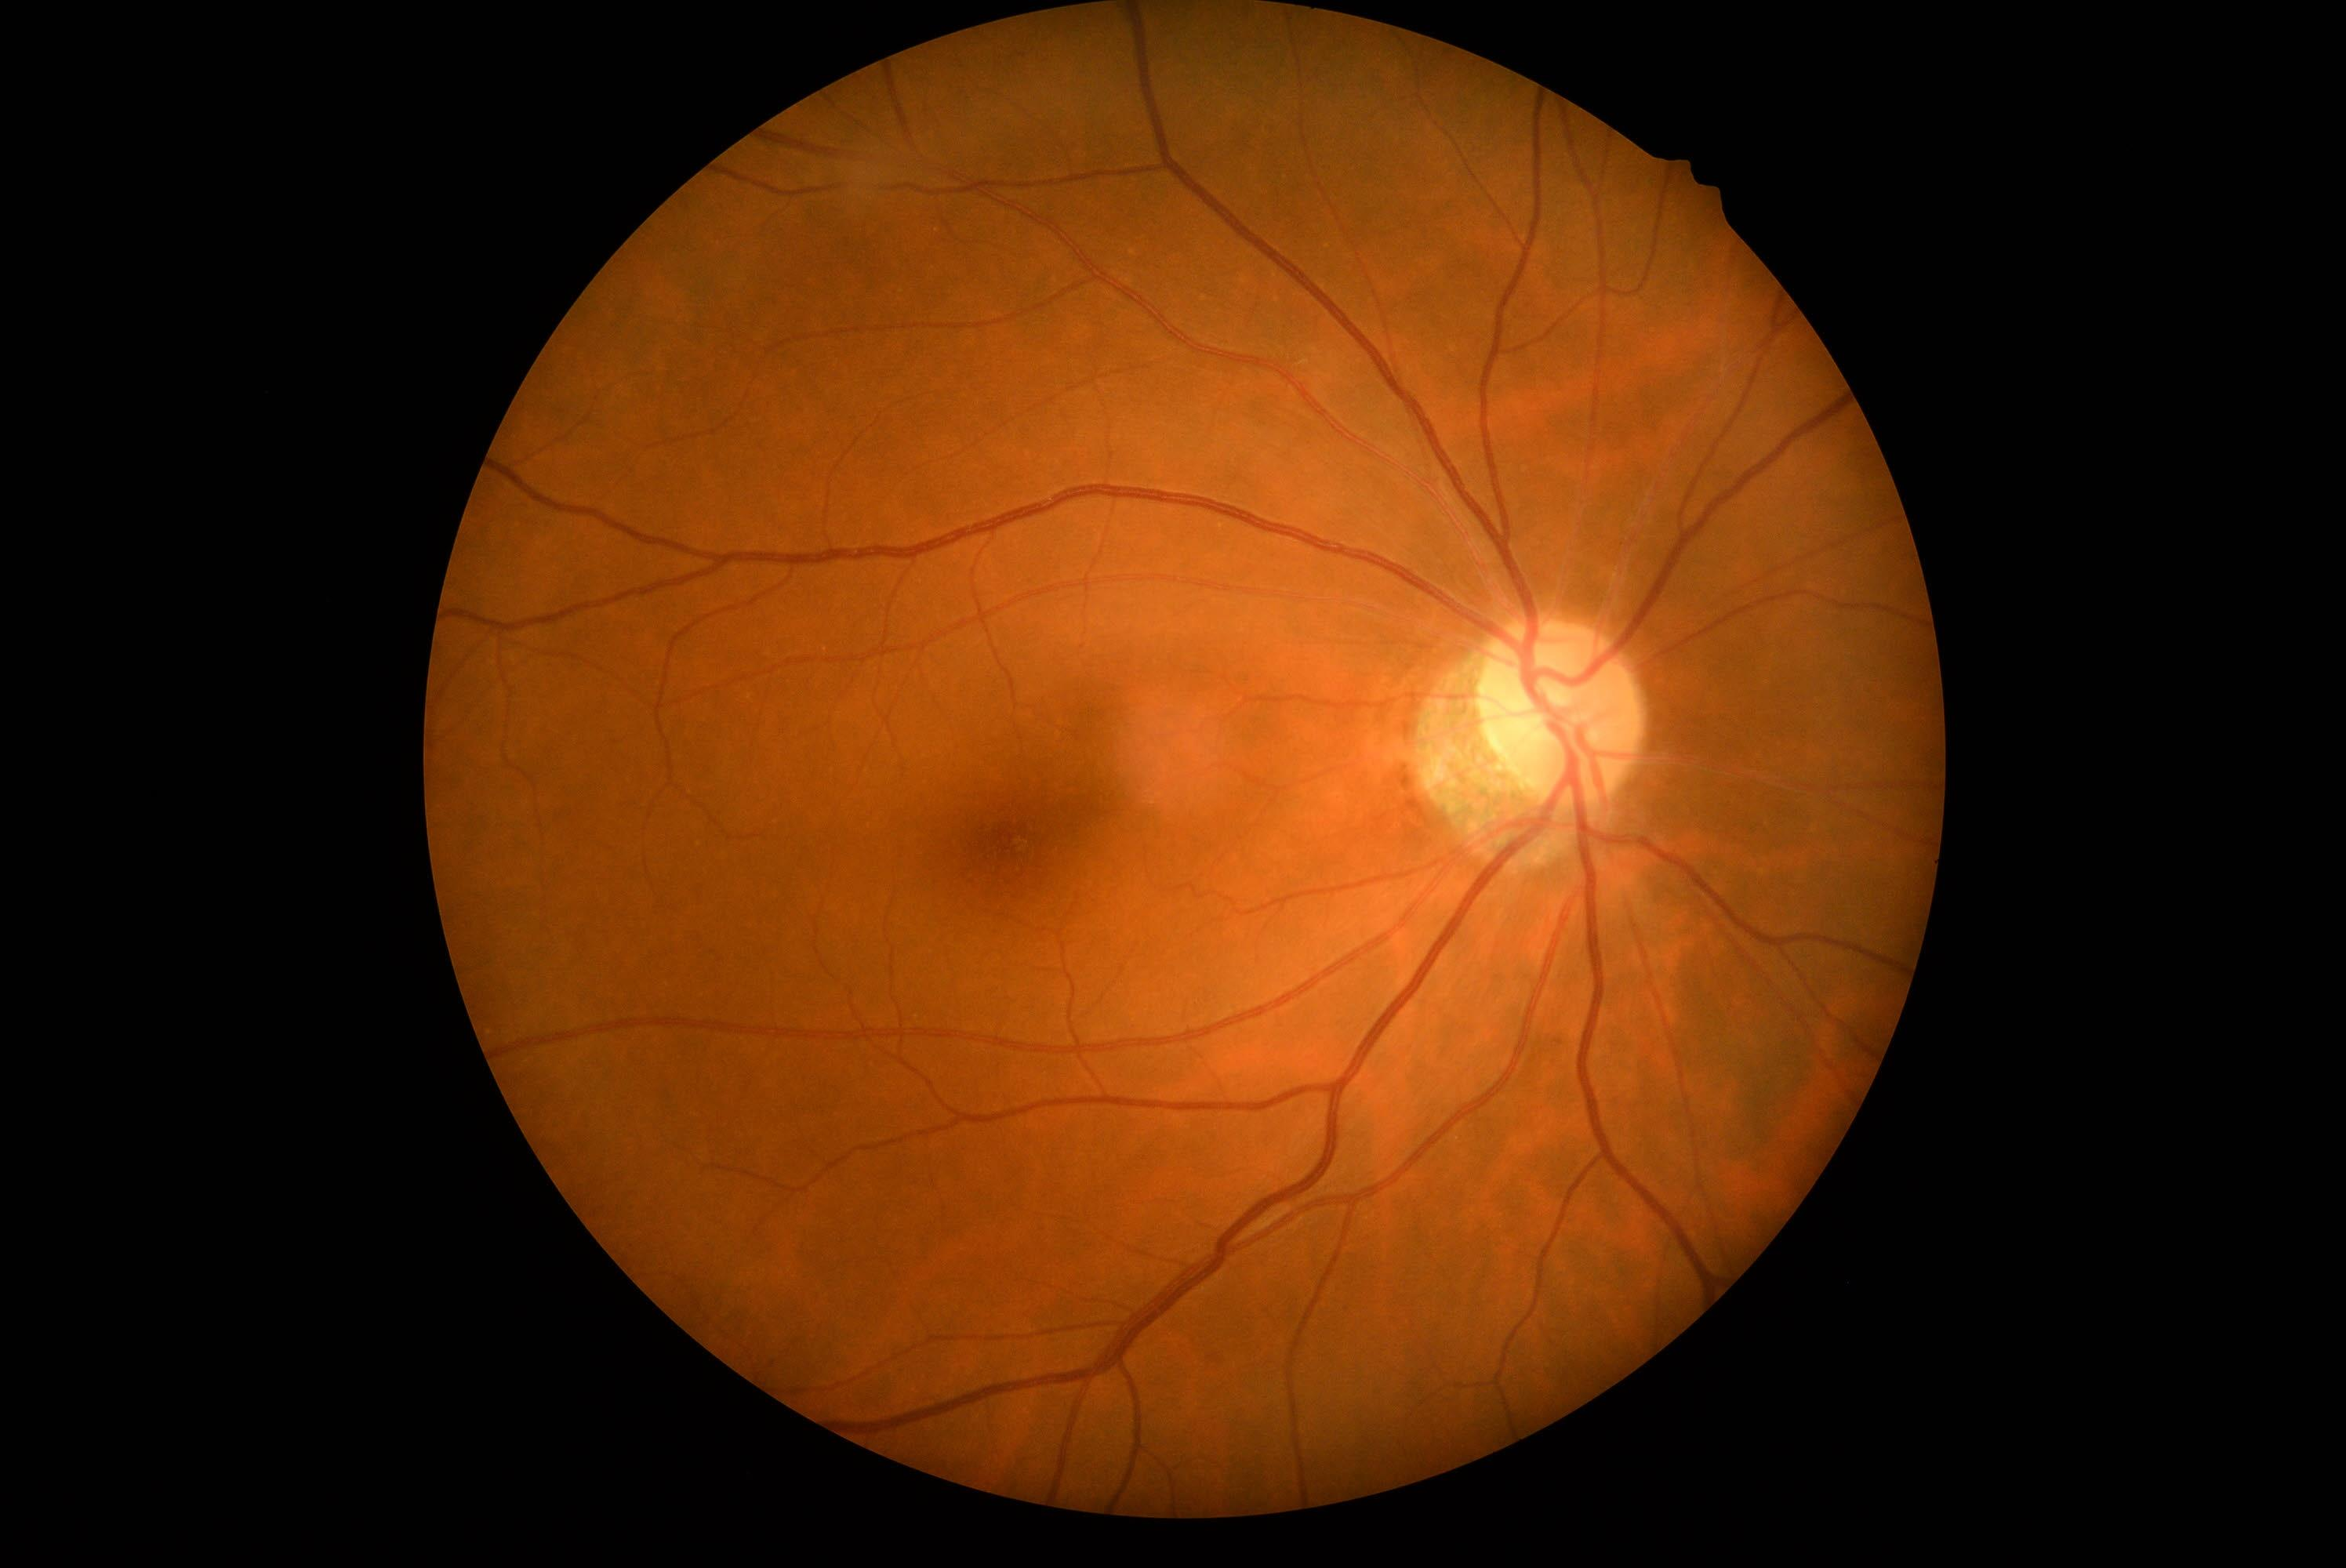Fovea: (936, 758, 1099, 921)
